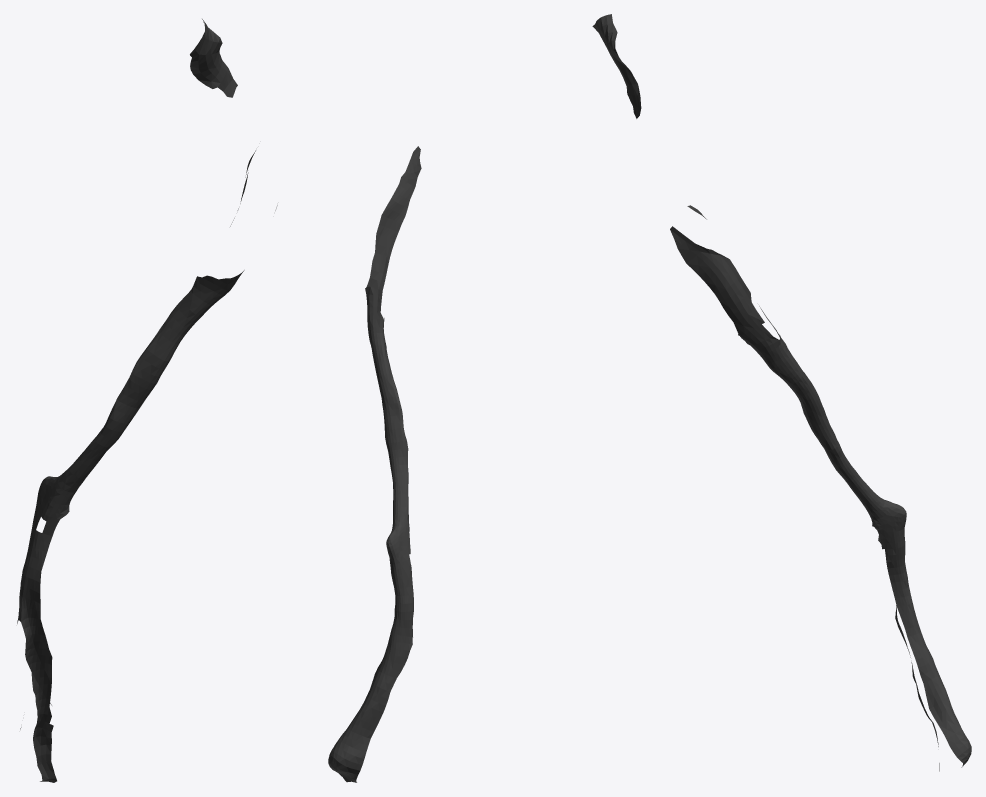
The model's file is eq_dist_limb_Lat_digital_artery.glb.
3 renders of one model, left to right at view 1: azimuth 30°, elevation 25°; view 2: azimuth 150°, elevation 25°; view 3: azimuth 270°, elevation 25°, orthographic. The views are drawn at different scales.
Visible parts, largest first — view 1: eq_dist_limb_Lat_digital_artery; view 2: eq_dist_limb_Lat_digital_artery; view 3: eq_dist_limb_Lat_digital_artery.
Part boxes in pixels (box(x1,y1,x2,y2)): eq_dist_limb_Lat_digital_artery: box(17, 19, 277, 782); eq_dist_limb_Lat_digital_artery: box(328, 146, 421, 782); eq_dist_limb_Lat_digital_artery: box(592, 14, 971, 771).
Size of the model in its own units: 0.004 by 0.0214 by 0.00987.
Materials: 1 (1 with a texture image).
